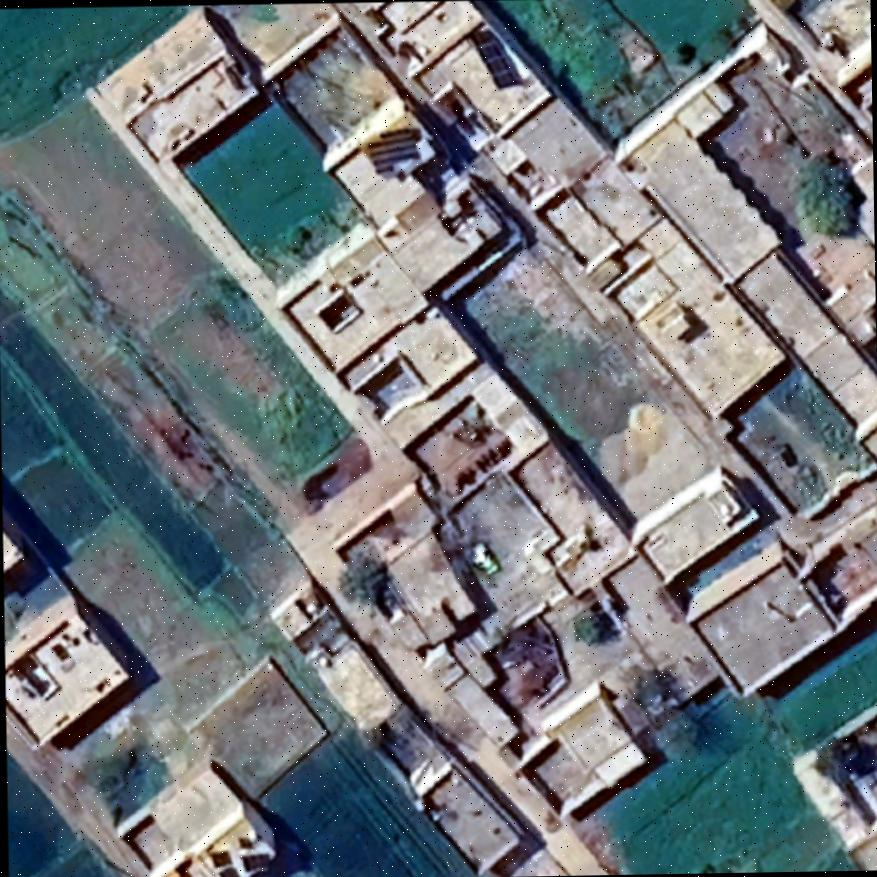Solarpanel: (460, 26, 522, 93), (353, 127, 423, 178)
